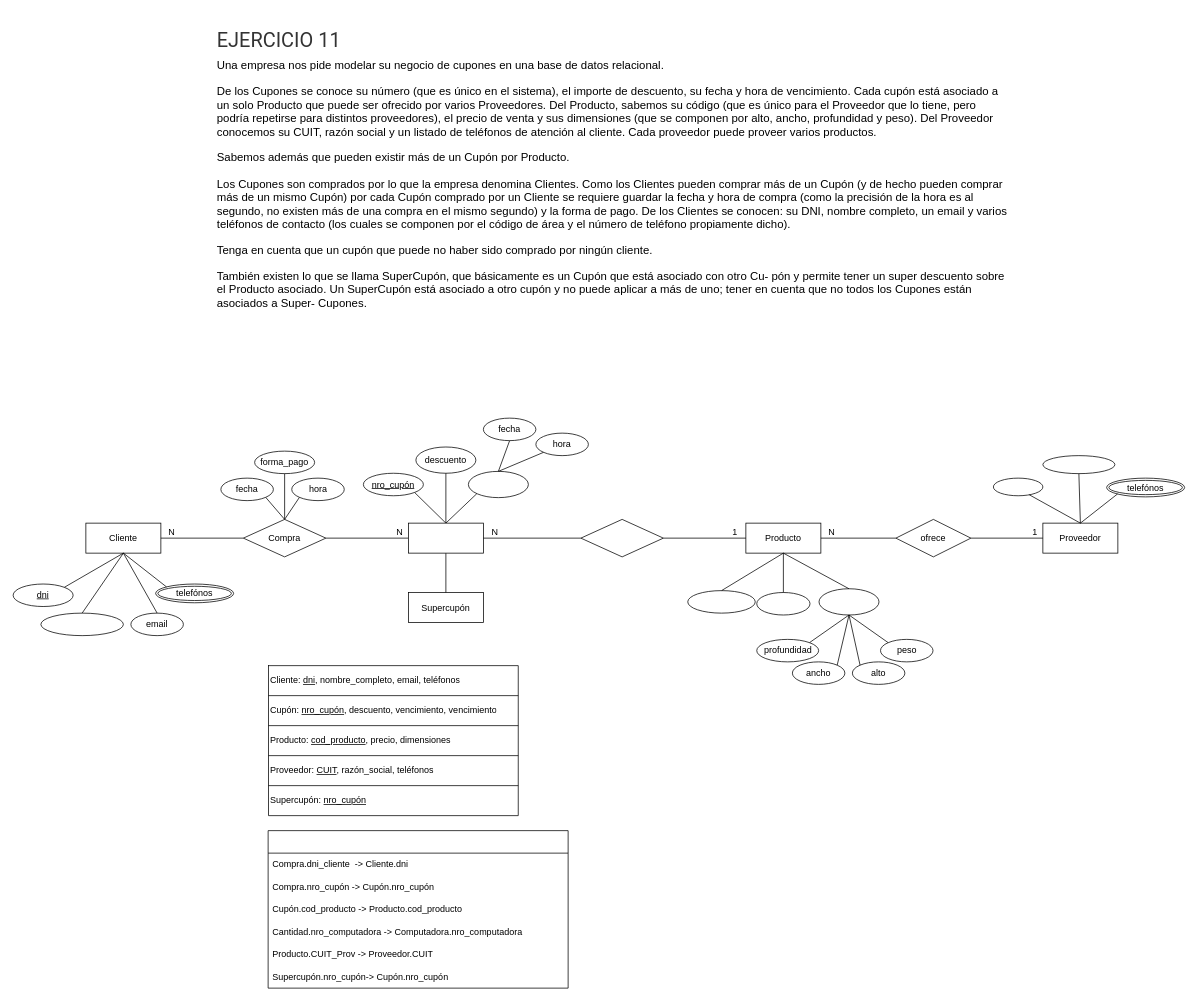
Image size: 1198x1001. Some labels were removed from this diagram. The shapes that lost their labels are listed below. From the top down, each one's box as (x1, y1, x2, y2) in pixels, then its label:
(468, 471, 528, 498): vencimiento
(1042, 455, 1115, 474): razón_social
(993, 477, 1043, 496): CUIT
(408, 522, 483, 553): Cupón
(580, 519, 663, 557): está asocicado
(687, 590, 755, 613): cod_producto
(756, 592, 810, 615): precio
(818, 588, 879, 615): dimensiones
(40, 612, 123, 636): nombre_completo
(267, 830, 568, 988): Lista FK
